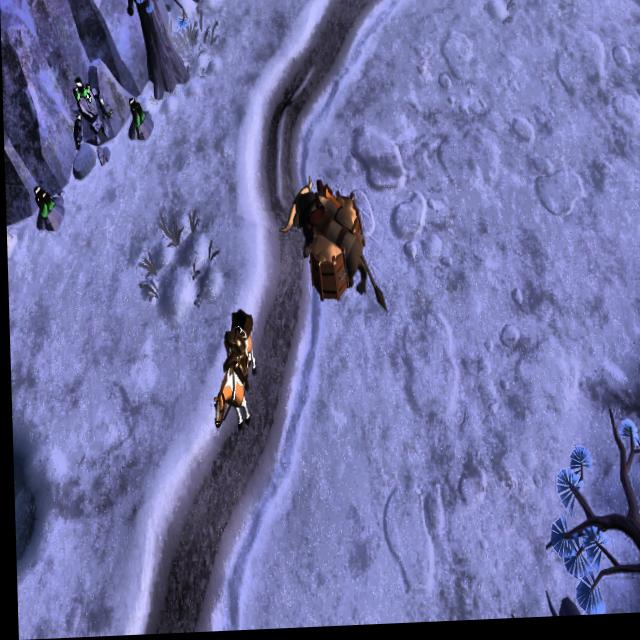ore_t3: (30, 180, 56, 224), (128, 91, 145, 133)
